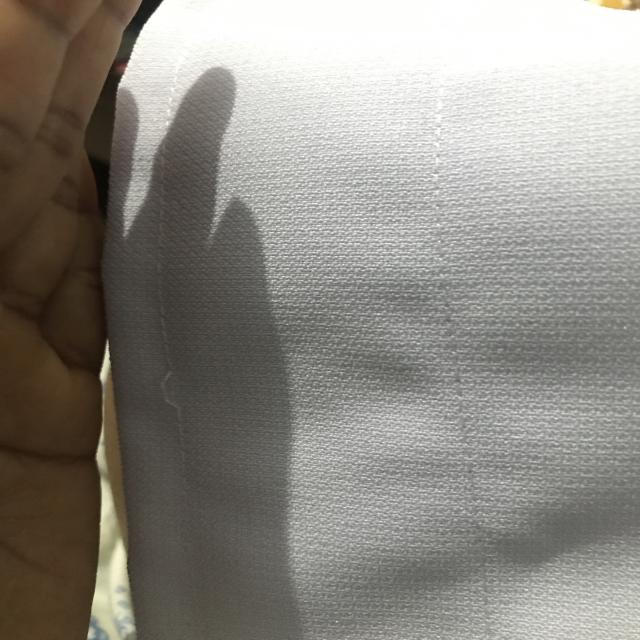good: (152, 218, 175, 328)
skip: (146, 356, 196, 420)
